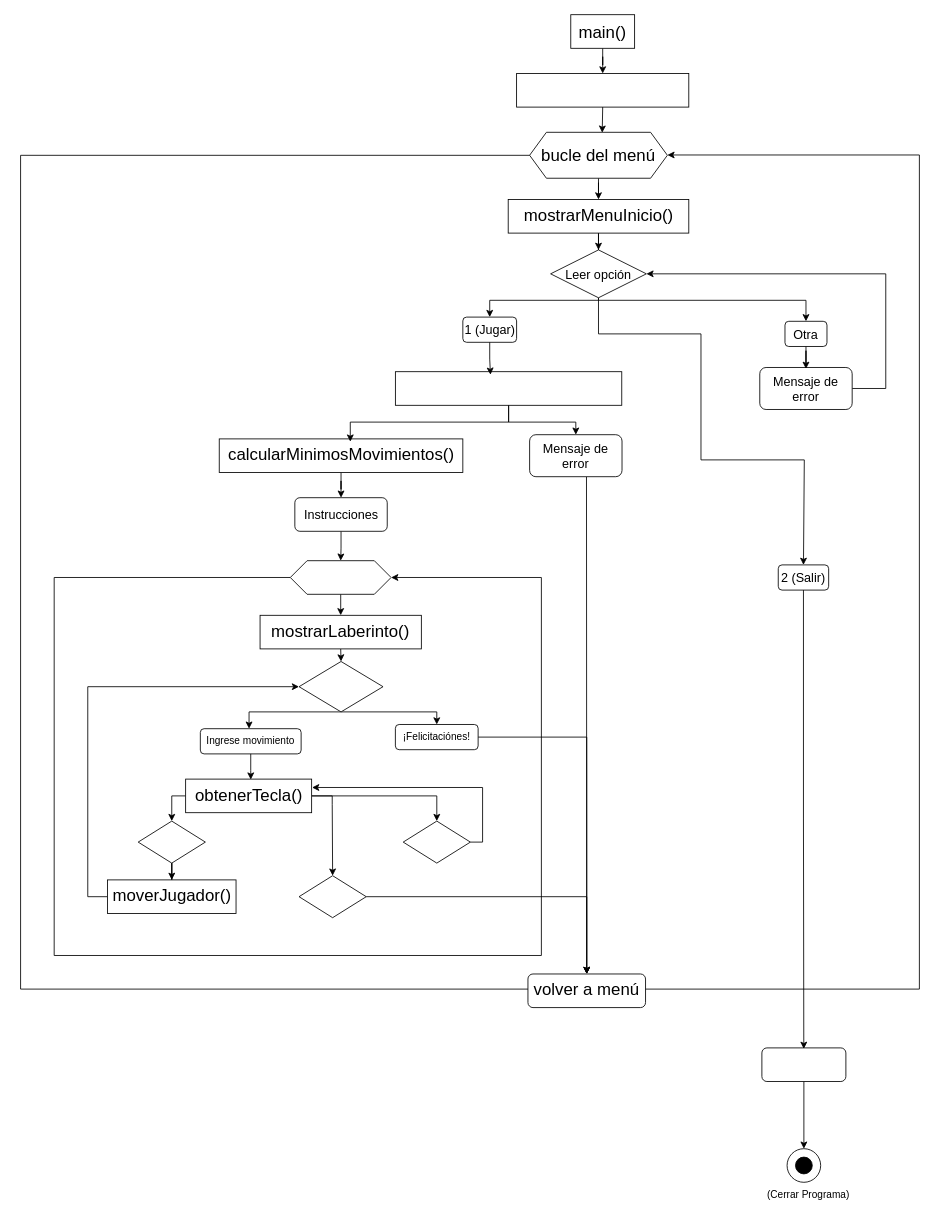
Image size: 941x1222. Some labels were removed from this diagram. Here are the shapes that lost their labels. From the top down, the box of each, then its label:
(516, 73, 689, 107): configurarTerminal()
(395, 371, 622, 405): cargarLaberinto(laberinto.txt)
(289, 560, 391, 594): bucle del juego
(298, 661, 383, 712): ¿Se llegó a la salida?
(137, 820, 205, 863): ¿Es w/a/s/d ?
(402, 820, 470, 863): ¿Es otra ?
(298, 875, 366, 918): ¿Es 'q' ?
(761, 1047, 846, 1082): Desconfigurar Terminal
